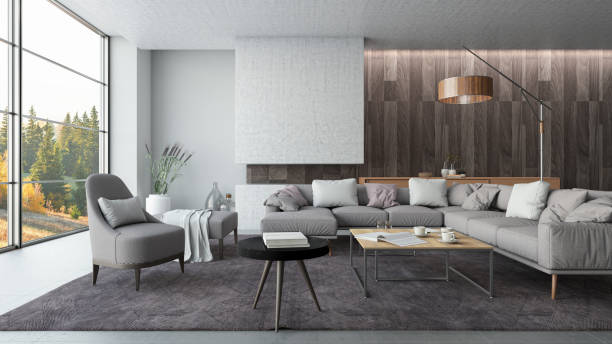chair: (84, 170, 187, 293), (152, 207, 240, 261)
floor lamp: (434, 41, 559, 180)
large plant: (142, 141, 193, 211)
sofa: (258, 174, 612, 302)
table: (346, 224, 495, 301), (237, 234, 330, 333)
